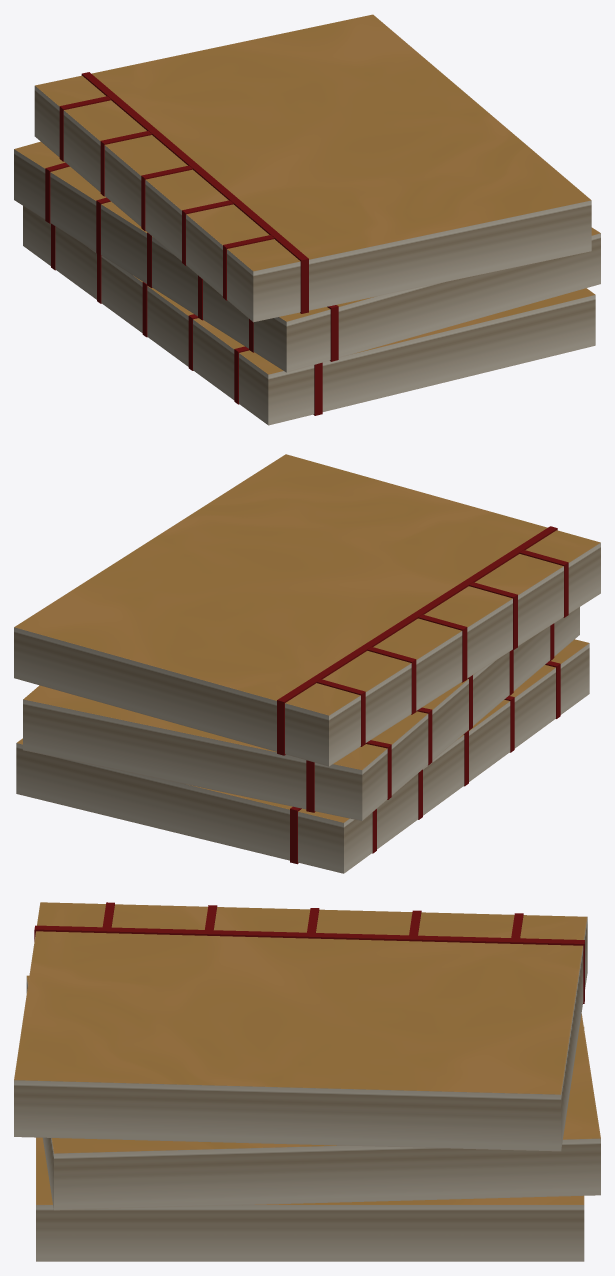
Rendered from library_loom_book_01.fbx.
3 views of the same model, one above another, from view 1: azimuth 30°, elevation 25°; view 2: azimuth 150°, elevation 25°; view 3: azimuth 270°, elevation 25° (orthographic). The views are drawn at different scales.
Parts seen in each view (by area): view 1: book.1-3_lo, book.1-1_lo, book.1-2_lo; view 2: book.1-3_lo, book.1-2_lo, book.1-1_lo; view 3: book.1-3_lo, book.1-2_lo, book.1-1_lo.
Part boxes in pixels (bbox=[...]): book.1-3_lo: bbox=[34, 14, 591, 322]; book.1-1_lo: bbox=[23, 206, 595, 425]; book.1-2_lo: bbox=[14, 141, 600, 372]; book.1-3_lo: bbox=[14, 454, 600, 766]; book.1-2_lo: bbox=[23, 607, 579, 820]; book.1-1_lo: bbox=[16, 639, 589, 873]; book.1-3_lo: bbox=[14, 902, 587, 1151]; book.1-2_lo: bbox=[26, 975, 600, 1210]; book.1-1_lo: bbox=[36, 1027, 584, 1261].
Size of the model in its own units: 31.06 by 13.29 by 39.95.
